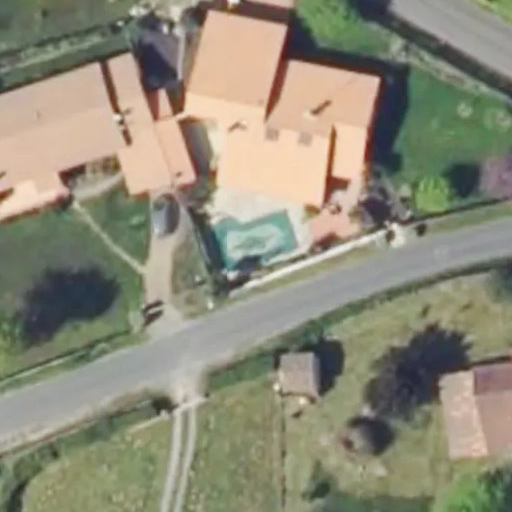pool: (208, 213, 300, 262)
